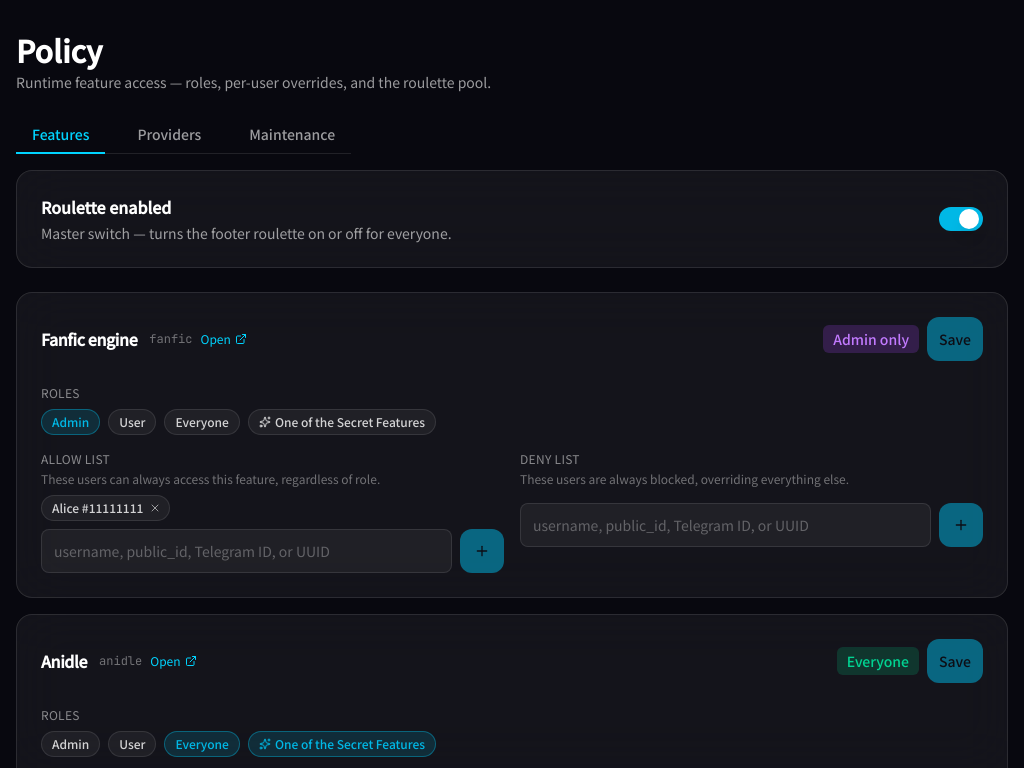
Test: AdminPolicy › updates the derived audience badge live as role chips toggle
expect the text with test id "audience-badge" reads "Admin only": met, box [833,329,909,349]
Click the button with test id "role-chip-fanfic-everyone": {"x": 202, "y": 422} [164,409,240,435]
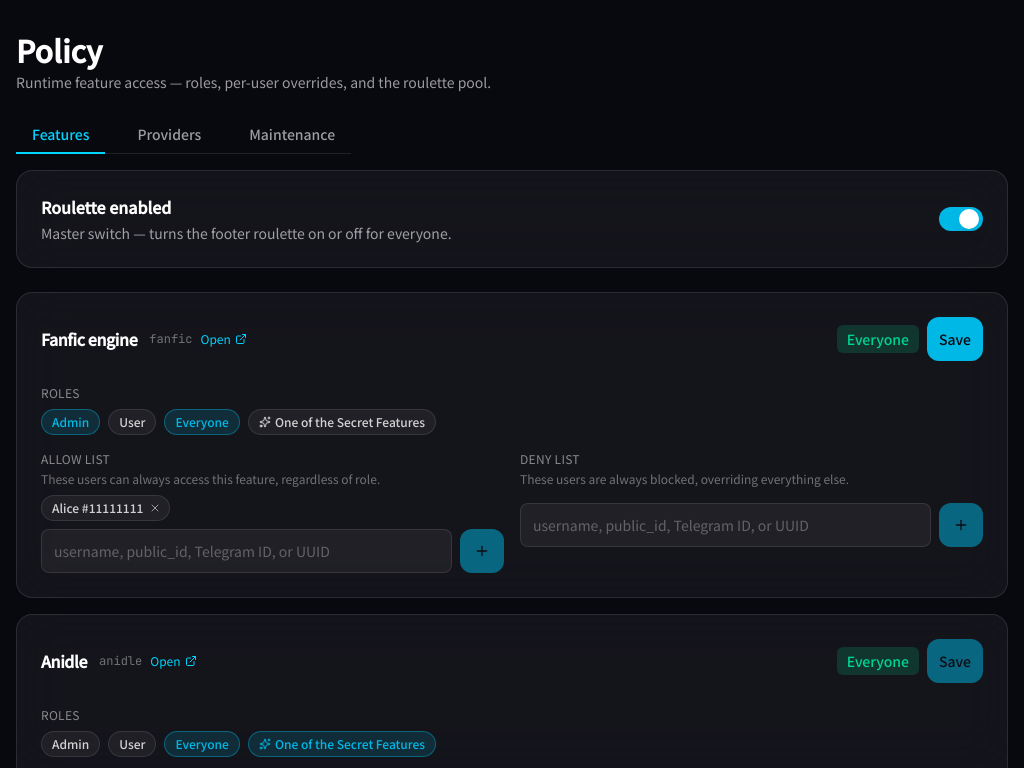
expect the 1st text with test id "audience-badge" reads "Everyone": met, box [847,329,909,349]
